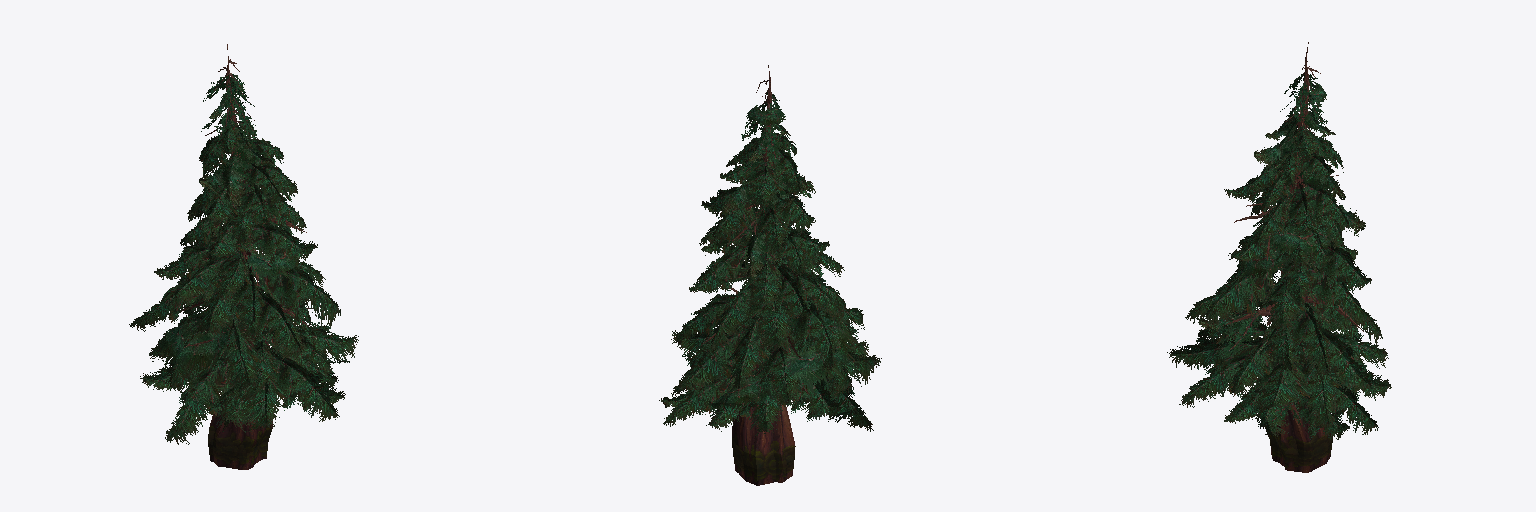
3 views of the same model, side by side, from view 1: azimuth 30°, elevation 25°; view 2: azimuth 150°, elevation 25°; view 3: azimuth 270°, elevation 25° (orthographic).
Parts seen in each view (by area): view 1: world/expansion08/doodads/9xp_tree_c01.m2_Geoset_000; view 2: world/expansion08/doodads/9xp_tree_c01.m2_Geoset_000; view 3: world/expansion08/doodads/9xp_tree_c01.m2_Geoset_000.
Part boxes in pixels (x1,y1,x2,y2): world/expansion08/doodads/9xp_tree_c01.m2_Geoset_000: (129,44,358,469); world/expansion08/doodads/9xp_tree_c01.m2_Geoset_000: (659,65,881,485); world/expansion08/doodads/9xp_tree_c01.m2_Geoset_000: (1167,42,1391,472).
Size of the model in its own units: 15.91 by 31 by 15.66.
Materials: 2 (2 with a texture image).